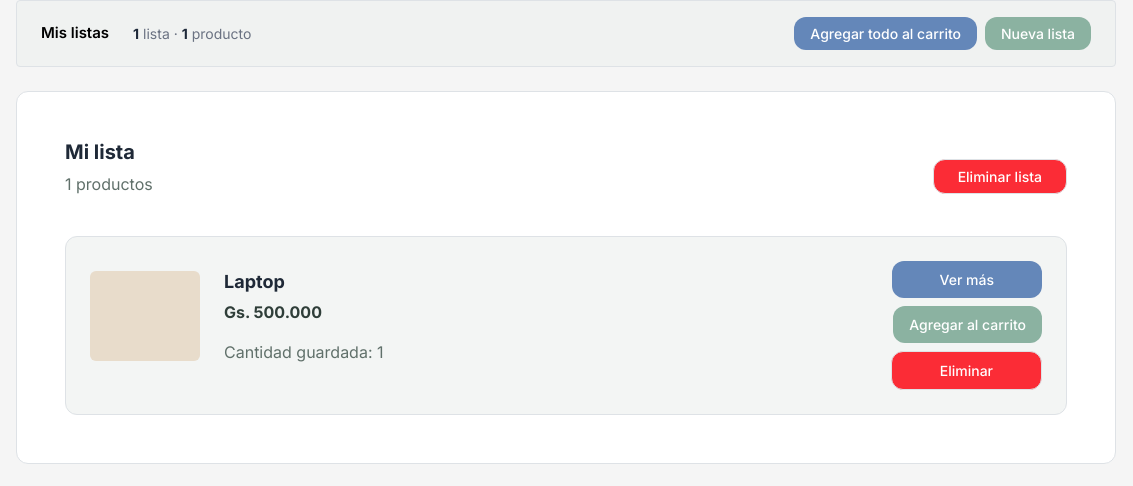
Test case: Wishlist › muestra formulario de nueva lista al hacer clic en el botón
Expected: the heading "Mi lista" is shown, [65,140,135,164]
Click the button "Nueva lista": (1038, 34) [985,17,1091,50]
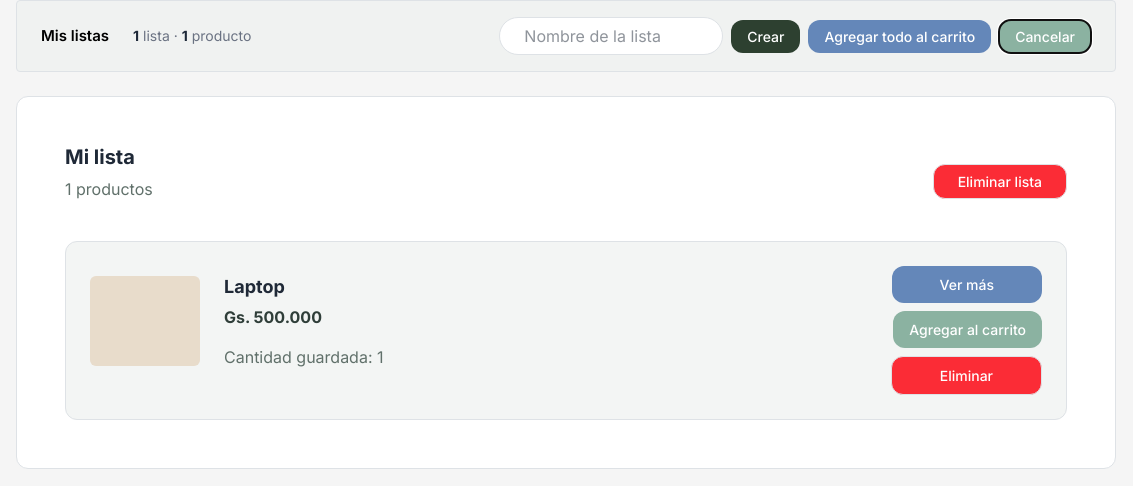
Now the field with placeholder "Nombre de la lista" is shown, box [499,17,723,55]
